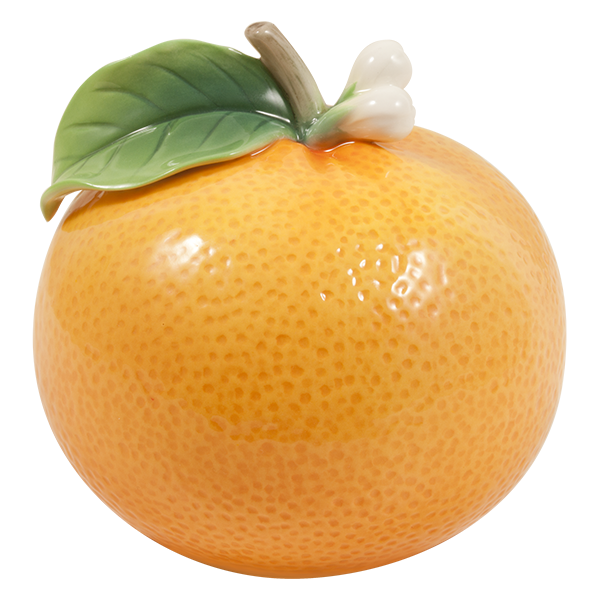orange: (18, 68, 569, 588)
